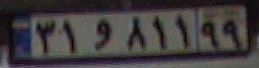character: (87, 16, 116, 57), (33, 17, 59, 56), (122, 14, 148, 53), (148, 12, 170, 54), (171, 11, 193, 52), (59, 17, 80, 57), (221, 17, 243, 51), (198, 18, 220, 51)
